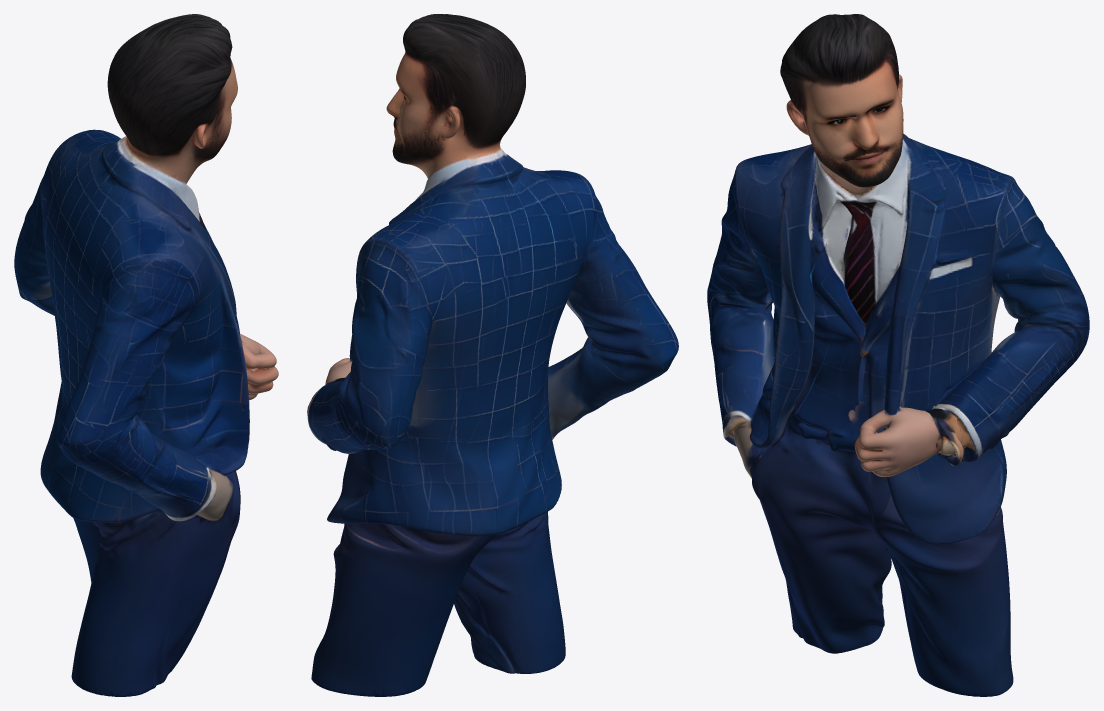
File: tripo_pbr_model_b507bff8-6a9f-_54a931a9_opt.glb
3 renders of one model, left to right at view 1: azimuth 30°, elevation 25°; view 2: azimuth 150°, elevation 25°; view 3: azimuth 270°, elevation 25°, orthographic. The views are drawn at different scales.
Parts seen in each view (by area): view 1: tripo_node_b507bff8-6a9f-476b-8010-09ea660a7822; view 2: tripo_node_b507bff8-6a9f-476b-8010-09ea660a7822; view 3: tripo_node_b507bff8-6a9f-476b-8010-09ea660a7822.
Part boxes in pixels (x1,y1,x2,y2): tripo_node_b507bff8-6a9f-476b-8010-09ea660a7822: [14, 14, 278, 696]; tripo_node_b507bff8-6a9f-476b-8010-09ea660a7822: [307, 14, 678, 696]; tripo_node_b507bff8-6a9f-476b-8010-09ea660a7822: [707, 14, 1089, 696].
Size of the model in its own units: 0.46 by 0.9999 by 0.5423.
1 material, 1 textured.
